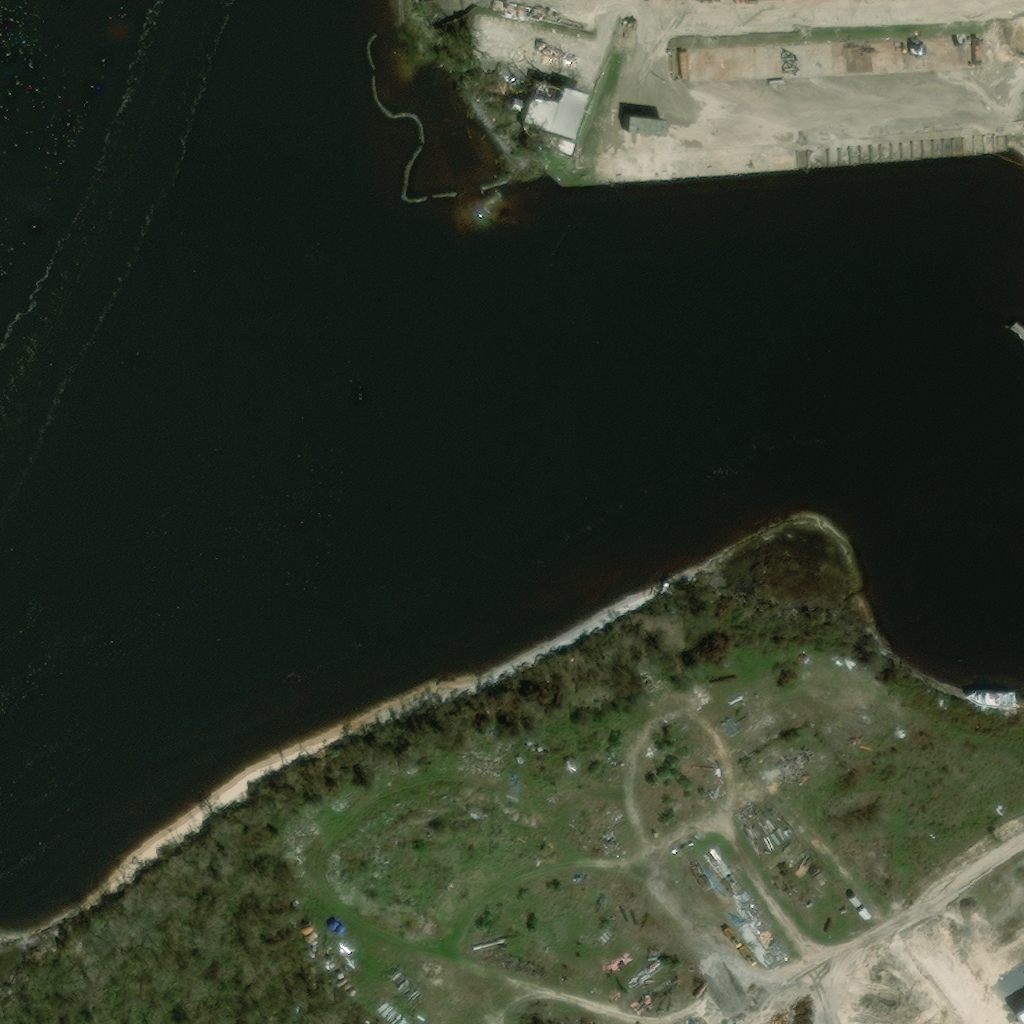major_damage: (512, 75, 577, 136), (534, 133, 565, 153)
no_damage: (848, 893, 863, 908), (858, 908, 872, 921)
unclassified: (931, 1011, 948, 1023), (1015, 98, 1023, 116)
